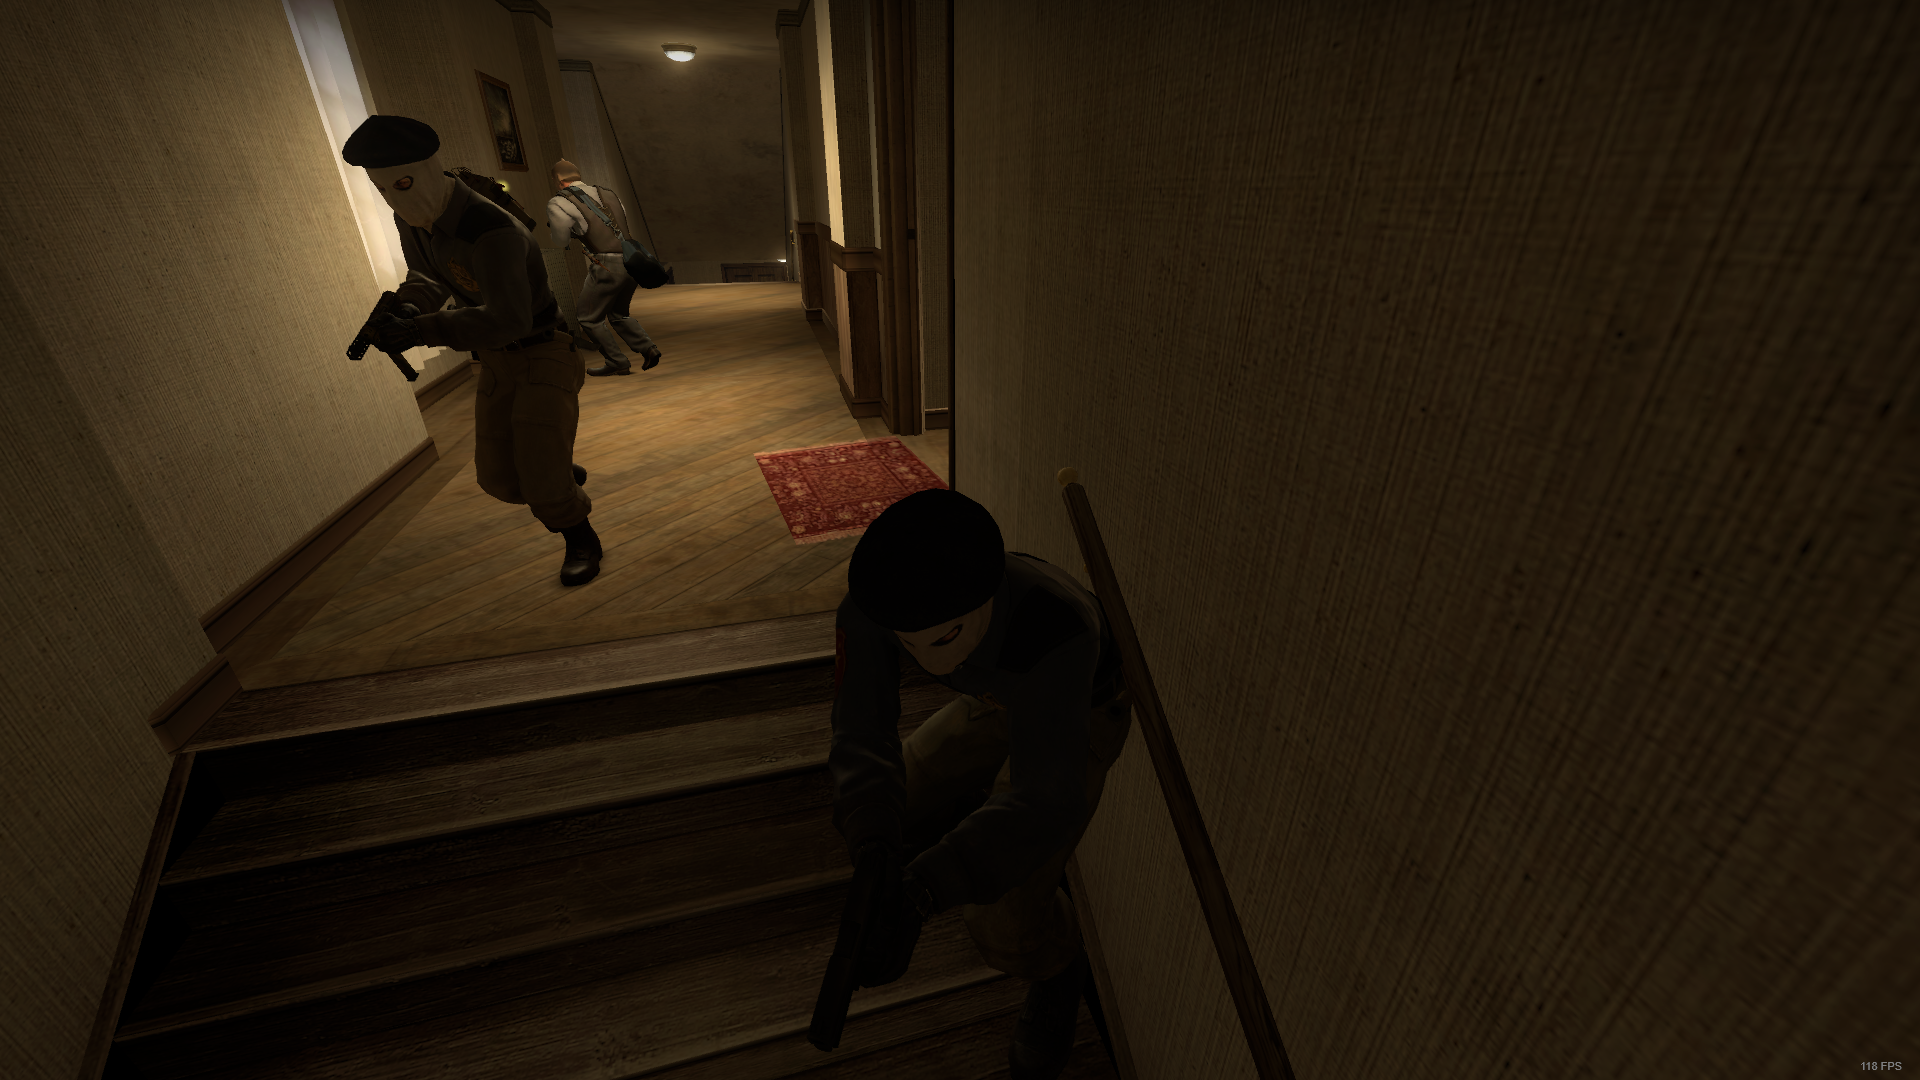t: (778, 498, 1170, 1076), (311, 117, 603, 585)
